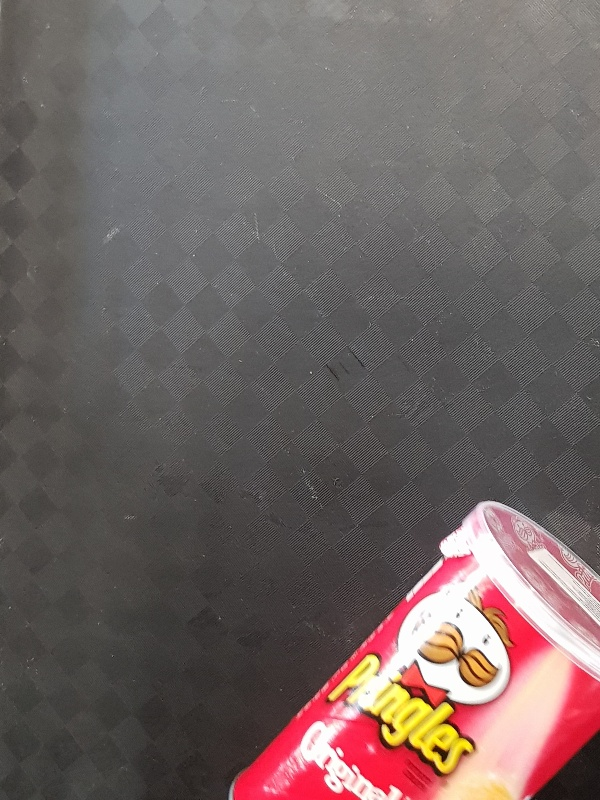Pringles Original: (225, 499, 599, 800)
